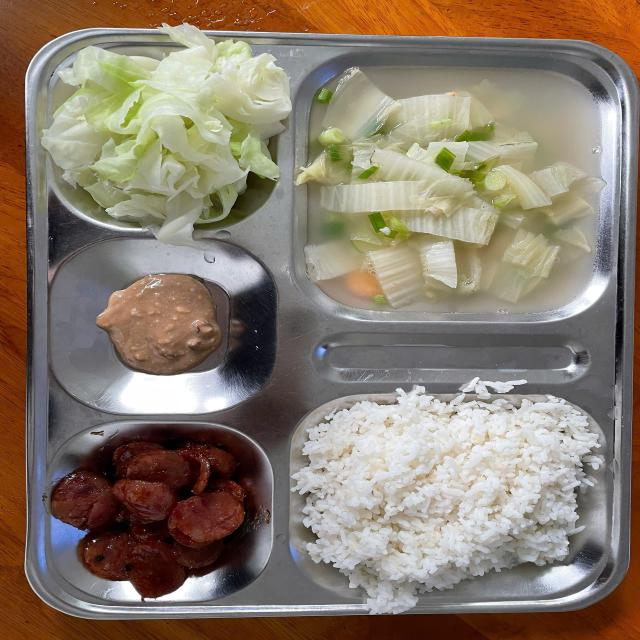cailuoc: (44, 38, 286, 226)
canhcaitrang: (307, 68, 600, 314)
lapxuong: (45, 434, 260, 595)
salad: (303, 398, 604, 587)
